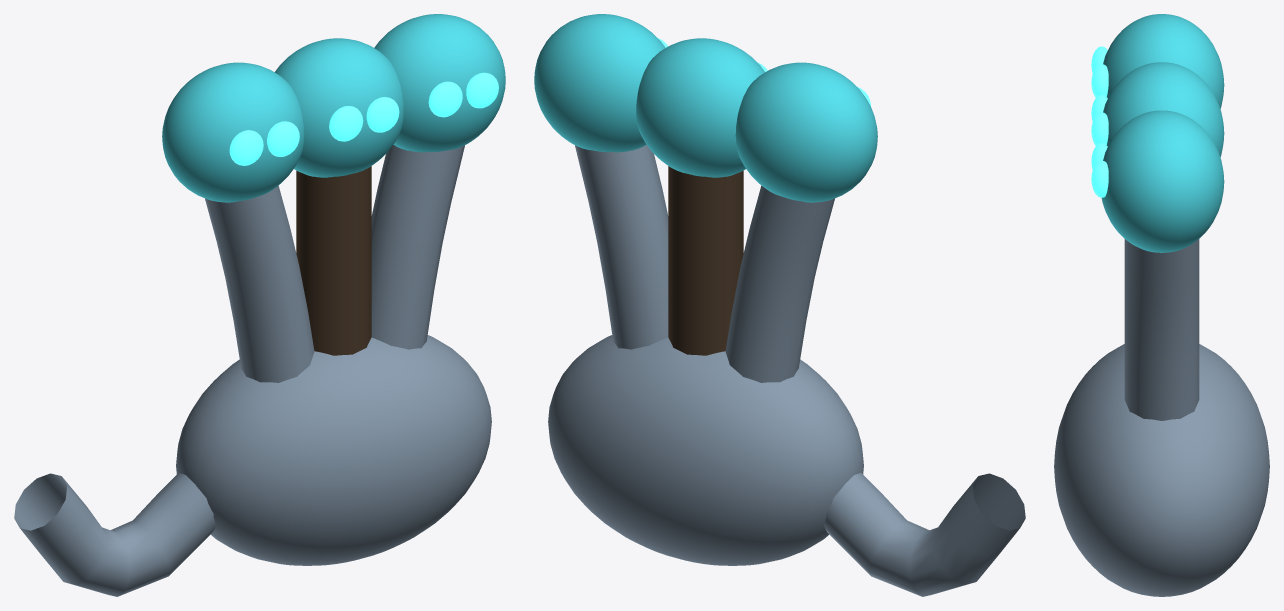
File: dragon_v5.glb
3 renders of one model, left to right at view 1: azimuth 30°, elevation 25°; view 2: azimuth 150°, elevation 25°; view 3: azimuth 270°, elevation 25°, orthographic.
Visible parts, largest first — view 1: HYDRA_BODY_PRIMARY, HYDRA_TAIL_PRIMARY, HYDRA_HEAD_ACCENT, HYDRA_NECK_PRIMARY, HYDRA_NECK_PRIMARY.001, HYDRA_NECK_SECONDARY, HYDRA_HEAD_ACCENT.002, HYDRA_HEAD_ACCENT.001, EYE_EMISSIVE, EYE_EMISSIVE.002, EYE_EMISSIVE.004, EYE_EMISSIVE.003 (+2 smaller); view 2: HYDRA_BODY_PRIMARY, HYDRA_HEAD_ACCENT, HYDRA_TAIL_PRIMARY, HYDRA_NECK_PRIMARY, HYDRA_NECK_PRIMARY.001, HYDRA_HEAD_ACCENT.002, HYDRA_HEAD_ACCENT.001, HYDRA_NECK_SECONDARY; view 3: HYDRA_BODY_PRIMARY, HYDRA_HEAD_ACCENT.002, HYDRA_NECK_PRIMARY.001, HYDRA_HEAD_ACCENT.001, HYDRA_HEAD_ACCENT, EYE_EMISSIVE.005, EYE_EMISSIVE.003, EYE_EMISSIVE.001.
Part boxes in pixels (bbox=[...]): HYDRA_BODY_PRIMARY: bbox=[176, 335, 491, 565]; HYDRA_TAIL_PRIMARY: bbox=[14, 472, 215, 596]; HYDRA_HEAD_ACCENT: bbox=[162, 62, 304, 202]; HYDRA_NECK_PRIMARY: bbox=[205, 185, 314, 382]; HYDRA_NECK_PRIMARY.001: bbox=[371, 145, 464, 349]; HYDRA_NECK_SECONDARY: bbox=[296, 166, 371, 355]; HYDRA_HEAD_ACCENT.002: bbox=[374, 14, 505, 152]; HYDRA_HEAD_ACCENT.001: bbox=[275, 38, 403, 177]; EYE_EMISSIVE: bbox=[229, 130, 263, 165]; EYE_EMISSIVE.002: bbox=[329, 106, 363, 141]; EYE_EMISSIVE.004: bbox=[428, 81, 462, 117]; EYE_EMISSIVE.003: bbox=[366, 97, 399, 132]; HYDRA_BODY_PRIMARY: bbox=[548, 335, 863, 565]; HYDRA_HEAD_ACCENT: bbox=[735, 62, 877, 202]; HYDRA_TAIL_PRIMARY: bbox=[824, 472, 1025, 596]; HYDRA_NECK_PRIMARY: bbox=[725, 185, 834, 382]; HYDRA_NECK_PRIMARY.001: bbox=[575, 145, 668, 349]; HYDRA_HEAD_ACCENT.002: bbox=[534, 14, 665, 152]; HYDRA_HEAD_ACCENT.001: bbox=[636, 38, 764, 177]; HYDRA_NECK_SECONDARY: bbox=[668, 166, 743, 355]; HYDRA_BODY_PRIMARY: bbox=[1054, 344, 1269, 596]; HYDRA_HEAD_ACCENT.002: bbox=[1101, 110, 1224, 252]; HYDRA_NECK_PRIMARY.001: bbox=[1124, 239, 1199, 420]; HYDRA_HEAD_ACCENT.001: bbox=[1103, 62, 1224, 157]; HYDRA_HEAD_ACCENT: bbox=[1103, 14, 1224, 108]; EYE_EMISSIVE.005: bbox=[1091, 160, 1108, 197]; EYE_EMISSIVE.003: bbox=[1091, 112, 1108, 145]; EYE_EMISSIVE.001: bbox=[1091, 64, 1108, 97].
Size of the model in its own units: 2.65 by 2.69 by 1.04.
